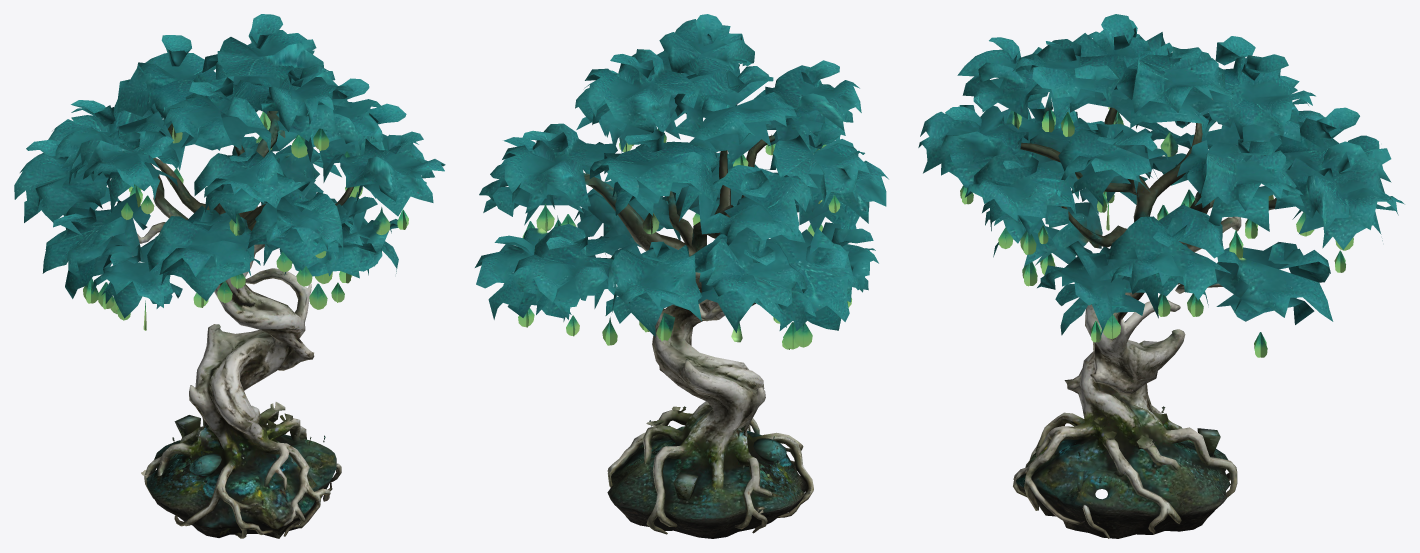
File: selected.glb
The picture shows the model from 3 angles, left to right: view 1: azimuth 30°, elevation 25°; view 2: azimuth 150°, elevation 25°; view 3: azimuth 270°, elevation 25°; orthographic projection. The views are drawn at different scales.
Parts seen in each view (by area): view 1: tripo_node_b6735bd8-4df1-4369-b2cc-bfea548721ff; view 2: tripo_node_b6735bd8-4df1-4369-b2cc-bfea548721ff; view 3: tripo_node_b6735bd8-4df1-4369-b2cc-bfea548721ff.
Part boxes in pixels (x1,y1,x2,y2): tripo_node_b6735bd8-4df1-4369-b2cc-bfea548721ff: (14, 14, 445, 538); tripo_node_b6735bd8-4df1-4369-b2cc-bfea548721ff: (475, 14, 888, 538); tripo_node_b6735bd8-4df1-4369-b2cc-bfea548721ff: (918, 14, 1404, 538).
Size of the model in its own units: 0.8345 by 0.9995 by 0.9116.
Materials: 1 (1 with a texture image).
